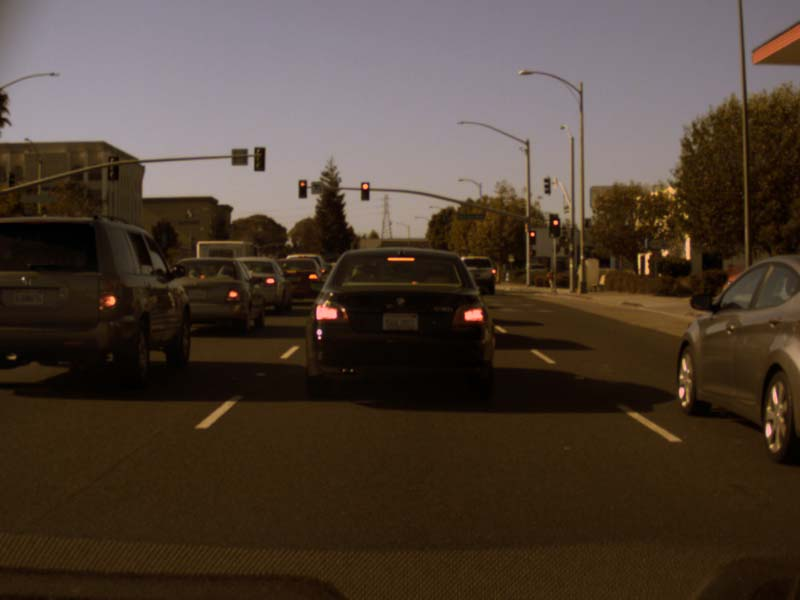Red: (360, 181, 369, 200), (298, 179, 306, 198), (551, 217, 559, 236), (528, 230, 535, 245)
